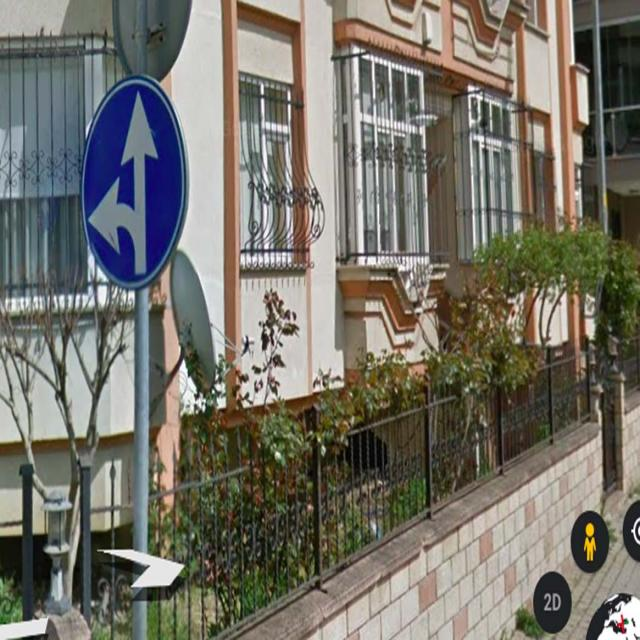ilerisol: (79, 73, 185, 287)
